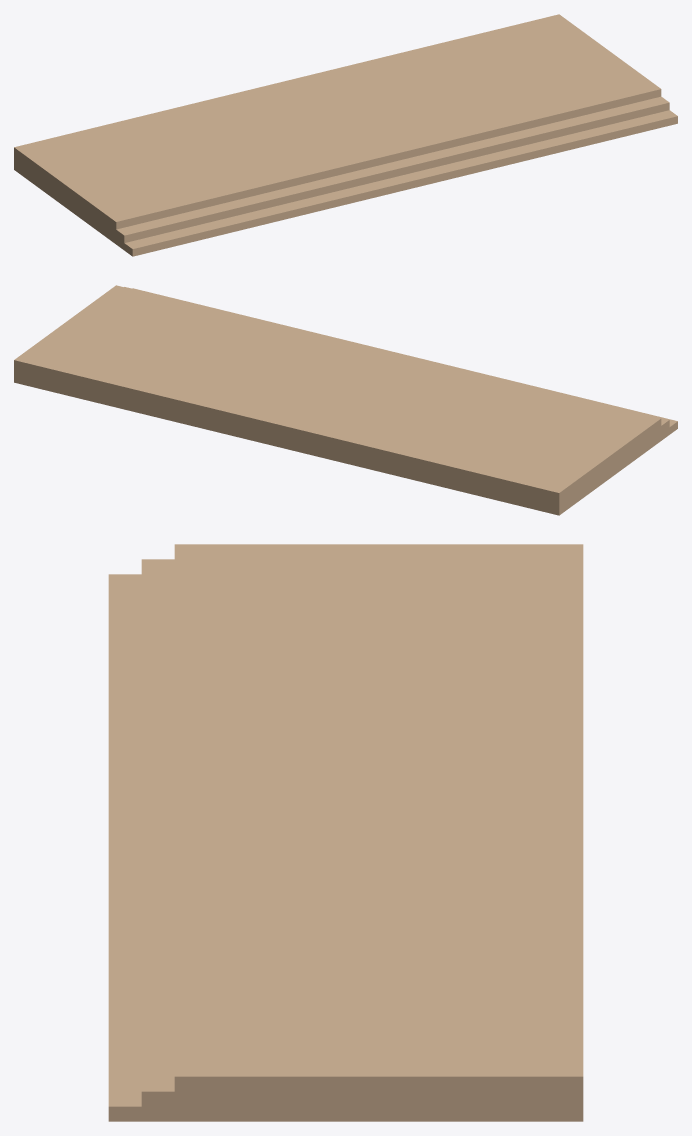
Rendered from chancel_platform.glb.
3 views of the same model, one above another, from view 1: azimuth 30°, elevation 25°; view 2: azimuth 150°, elevation 25°; view 3: azimuth 270°, elevation 25° (orthographic). The views are drawn at different scales.
Parts seen in each view (by area): view 1: chancel_platform_wood; view 2: chancel_platform_wood; view 3: chancel_platform_wood.
Part boxes in pixels (<box>): chancel_platform_wood: <box>14,14,677,256</box>; chancel_platform_wood: <box>14,285,677,515</box>; chancel_platform_wood: <box>108,544,583,1121</box>.
Size of the model in its own units: 11.4 by 0.45 by 4.3.
